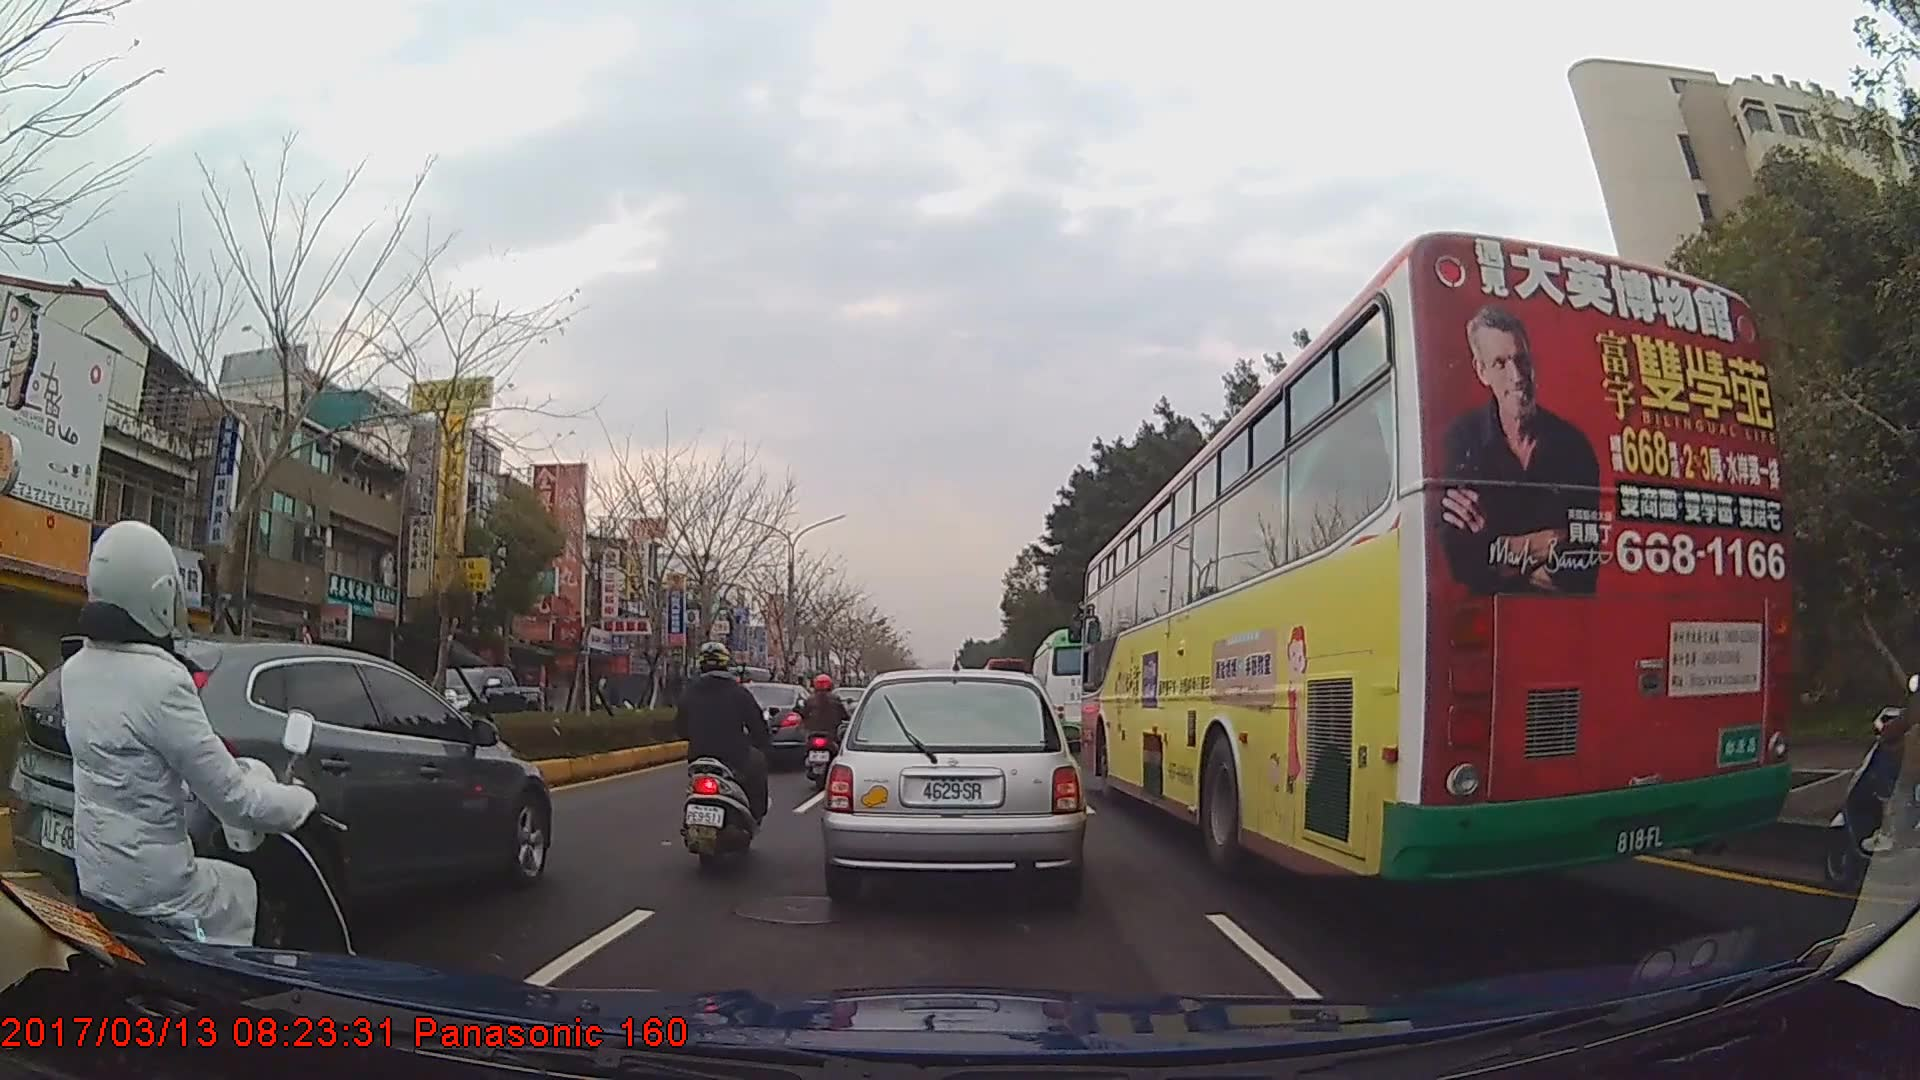rider: (22, 520, 353, 1055), (1822, 591, 1920, 888), (671, 641, 772, 873), (797, 675, 850, 791)
vehicle: (1081, 226, 1795, 886), (0, 624, 553, 922), (822, 670, 1082, 896), (1028, 628, 1115, 749), (421, 664, 542, 736), (718, 682, 818, 768)
